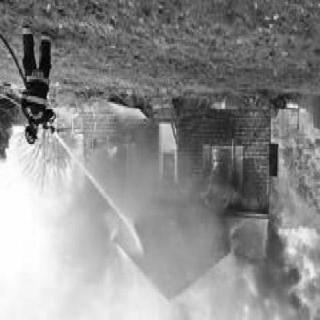Fire: (210, 150, 239, 210), (104, 142, 124, 174)
